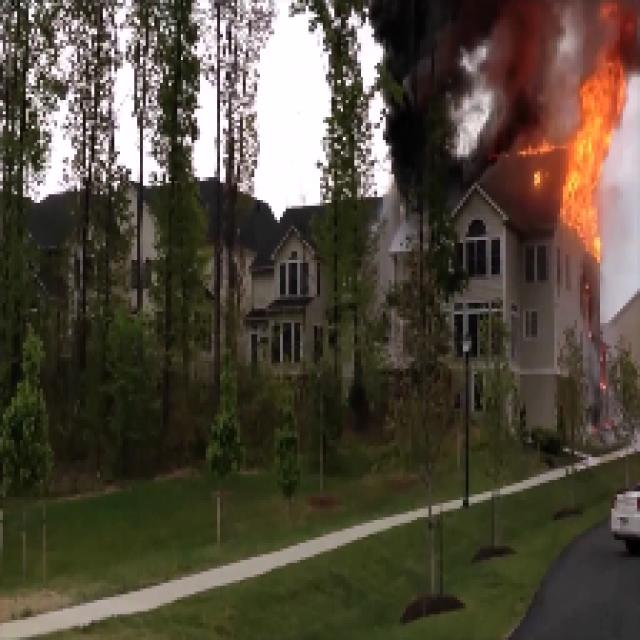fire: (569, 71, 615, 239)
smoke: (403, 12, 540, 174)
